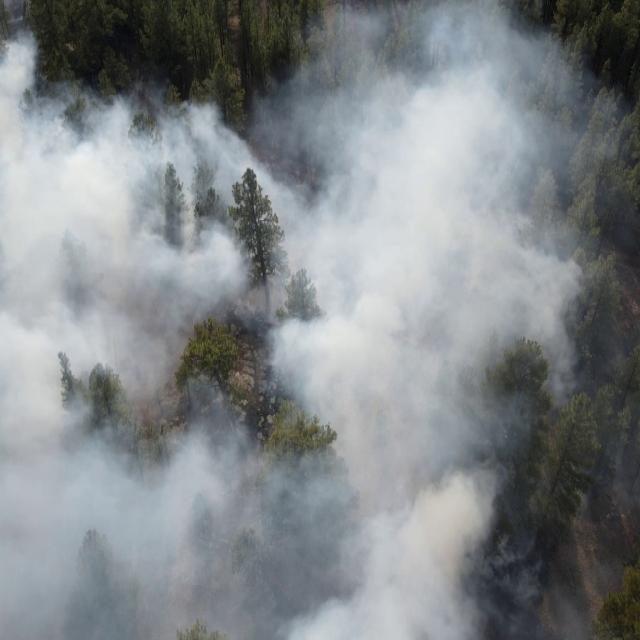smoke: (39, 84, 640, 640), (293, 0, 604, 84), (0, 0, 38, 640)
